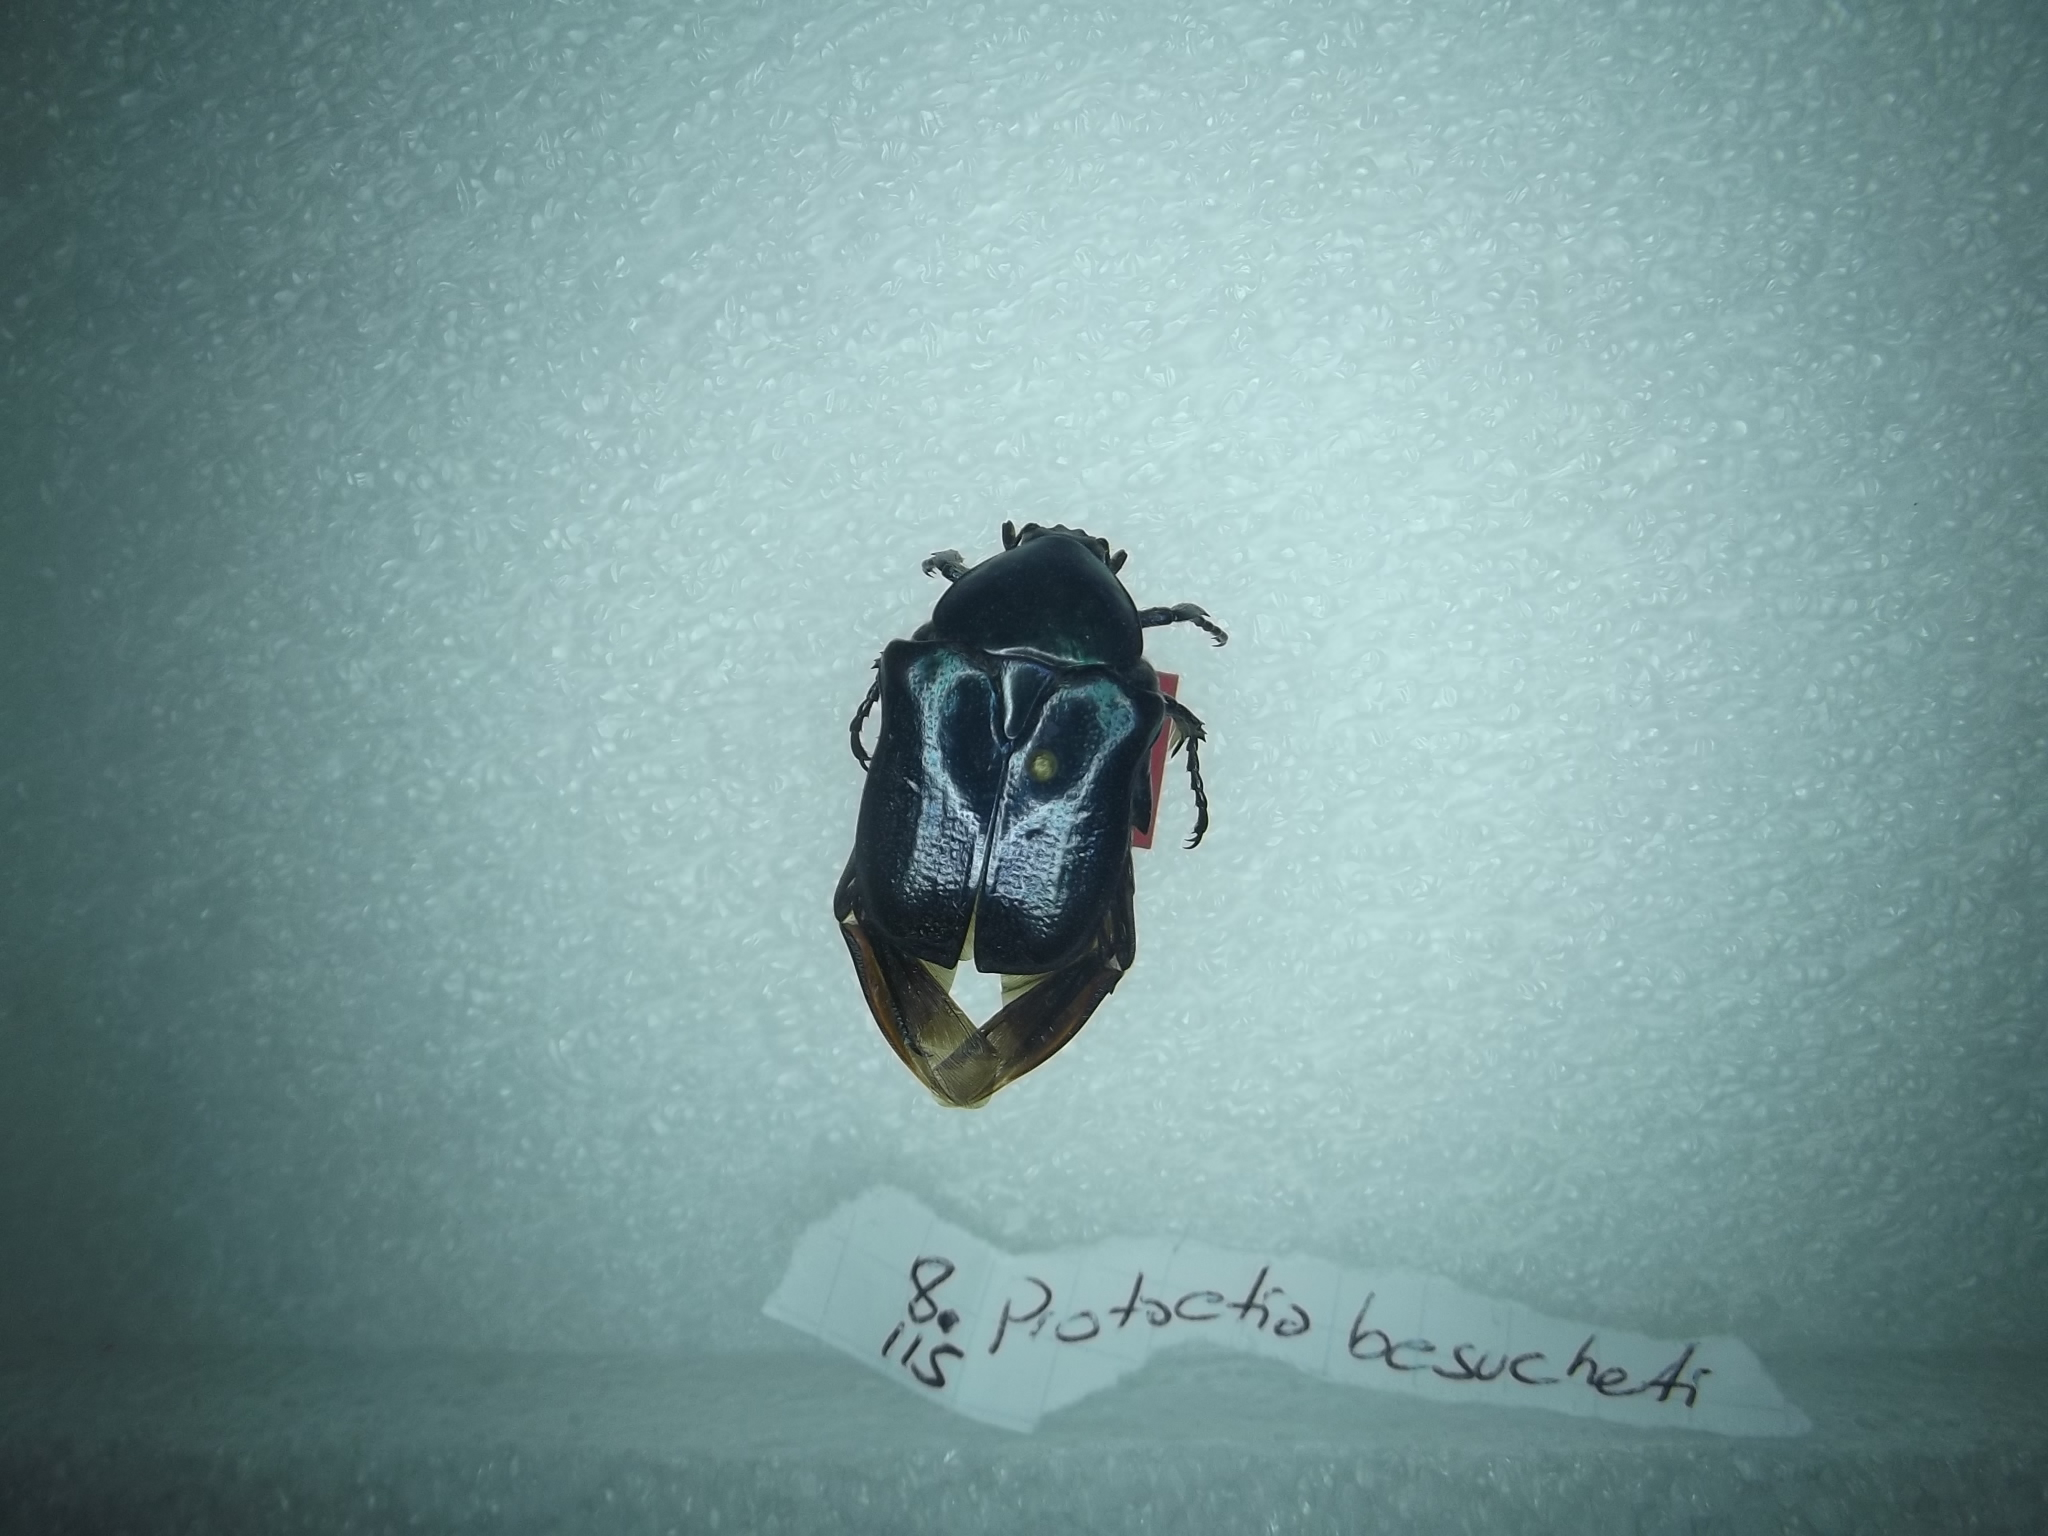Protaetia_besucheti: (829, 495, 1230, 1120)
